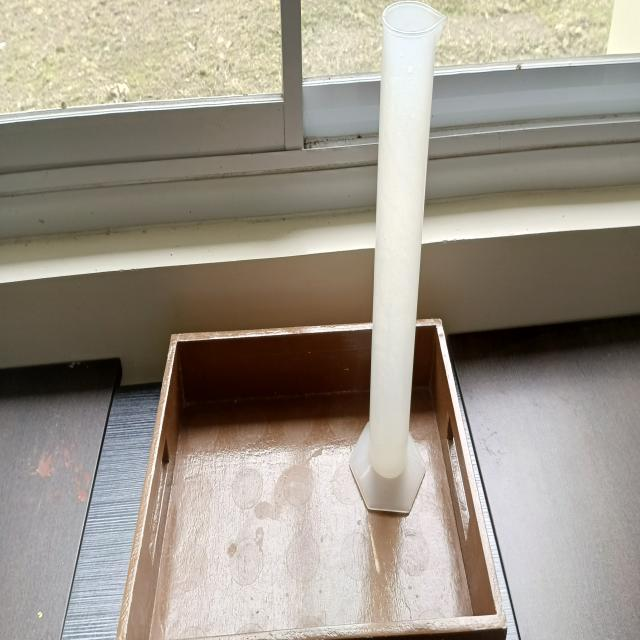graduated_cylinder: (346, 2, 449, 520)
